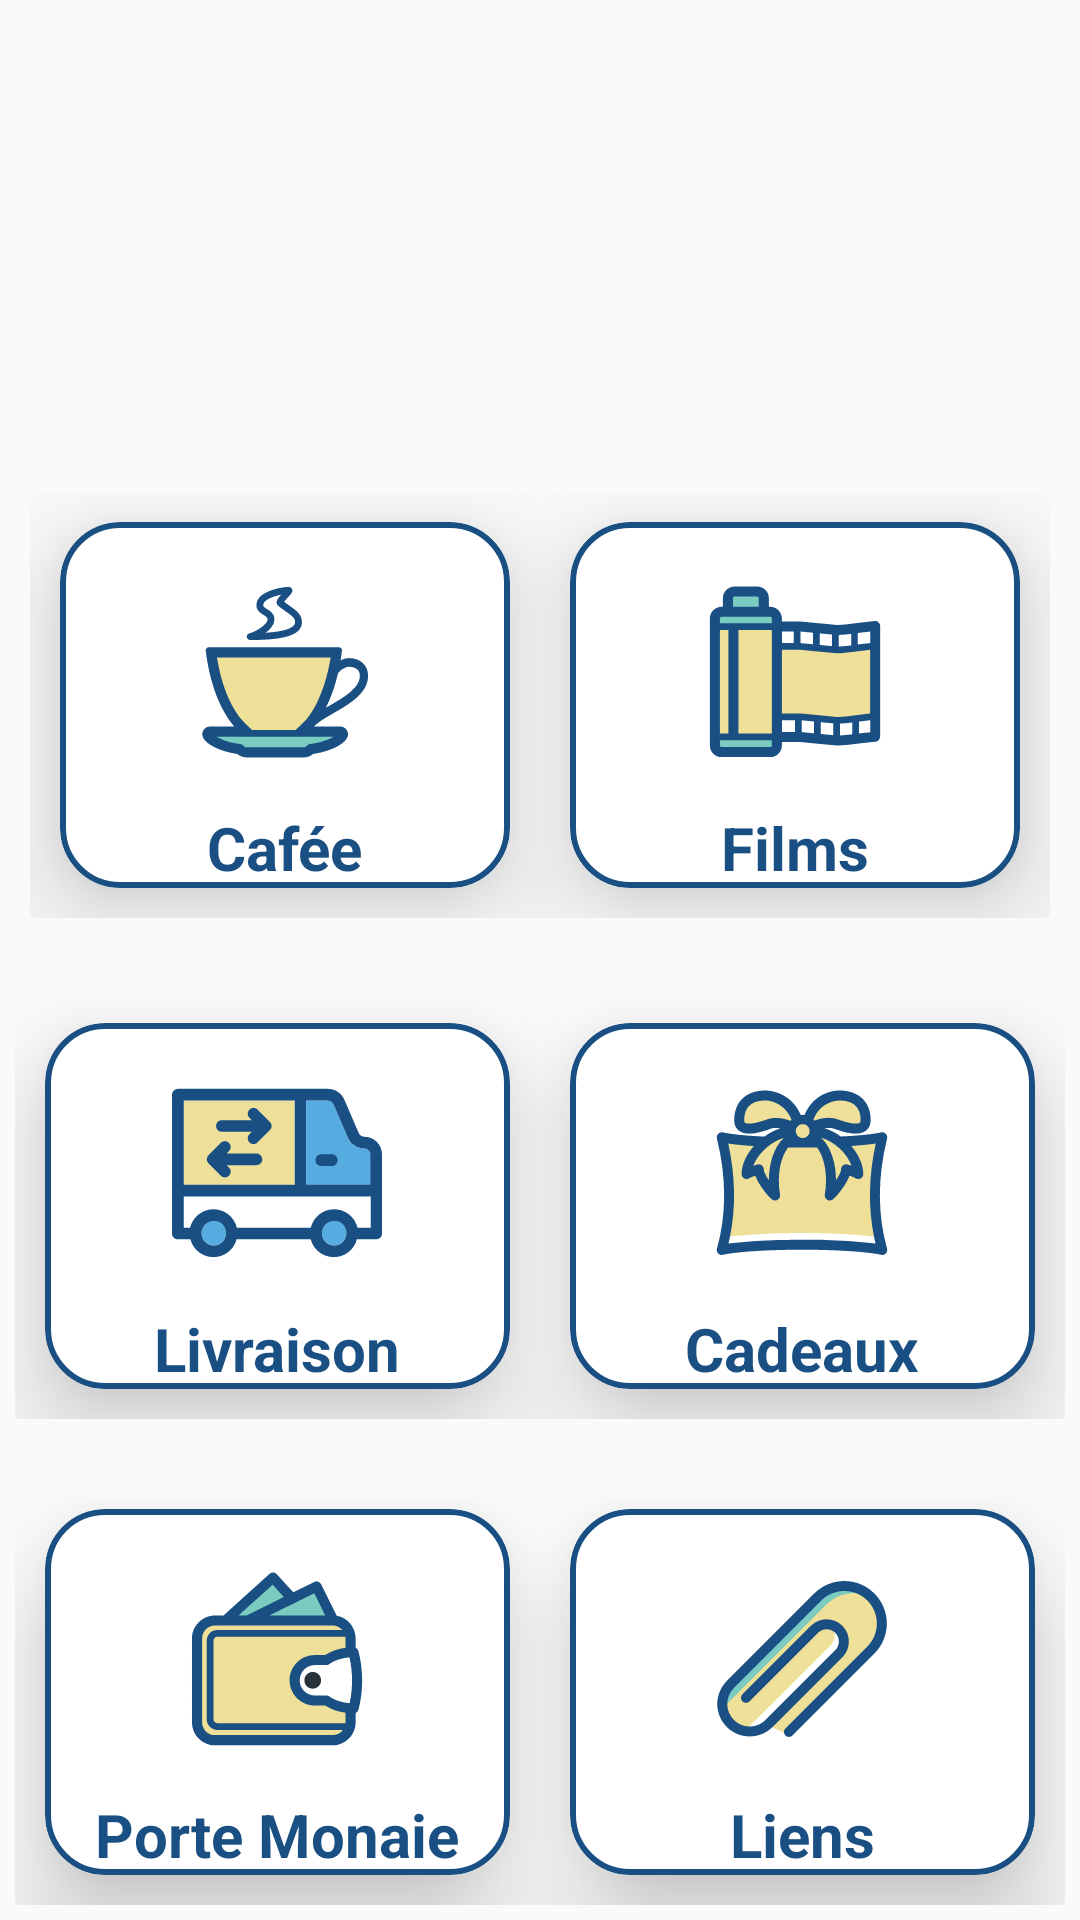

Where to tap for icons on this 1080×1920 app screen, as point (x, y):
card holder: point (277, 1659)
link: point (802, 1659)
tea: point (285, 672)
